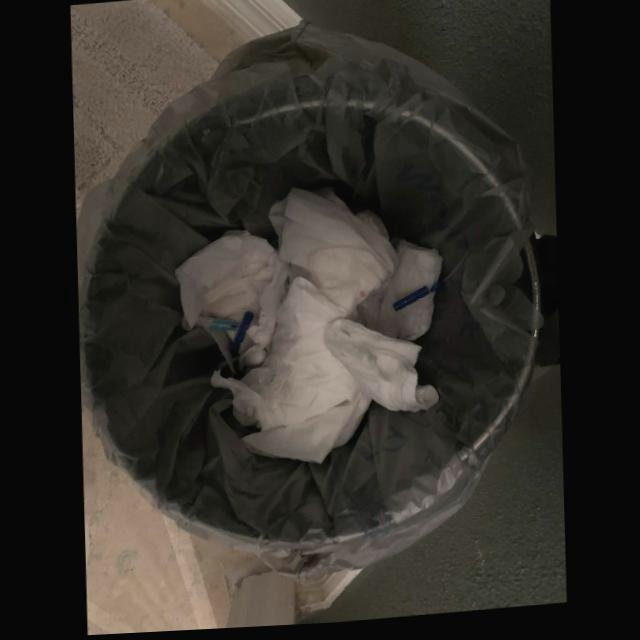paper: (210, 276, 372, 466), (267, 189, 399, 316), (174, 232, 279, 354), (322, 320, 440, 416), (354, 242, 443, 344)
